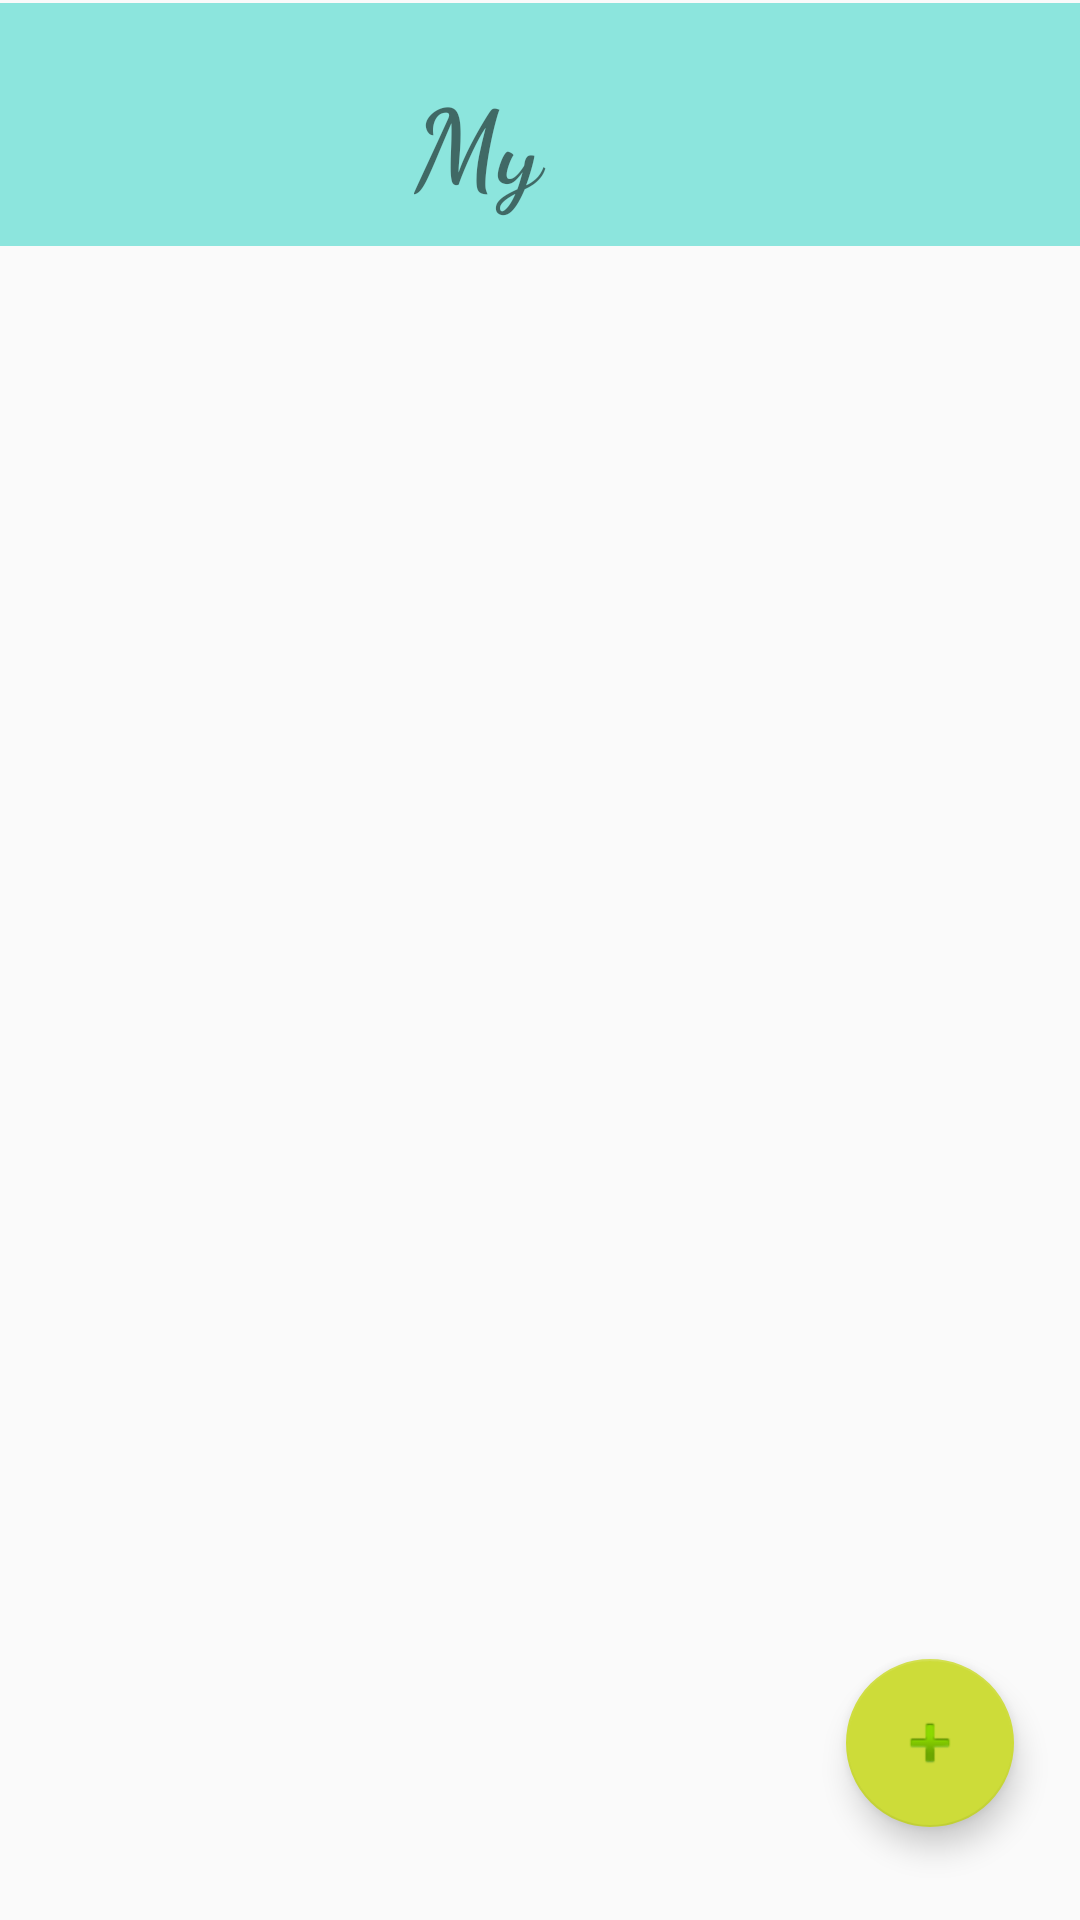

Locate icon controls on the screen. Image size 1080×1920, boxes as (x1, y1, x2, y2).
add: (846, 1659, 1014, 1827)
